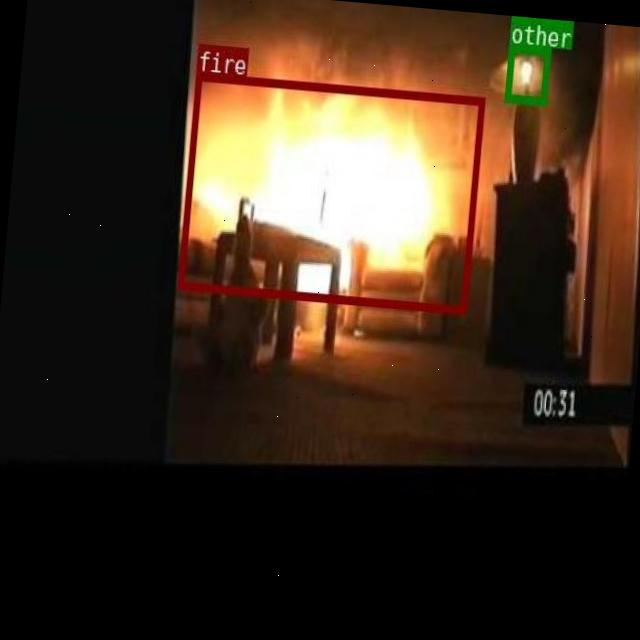fire: (176, 71, 483, 312)
